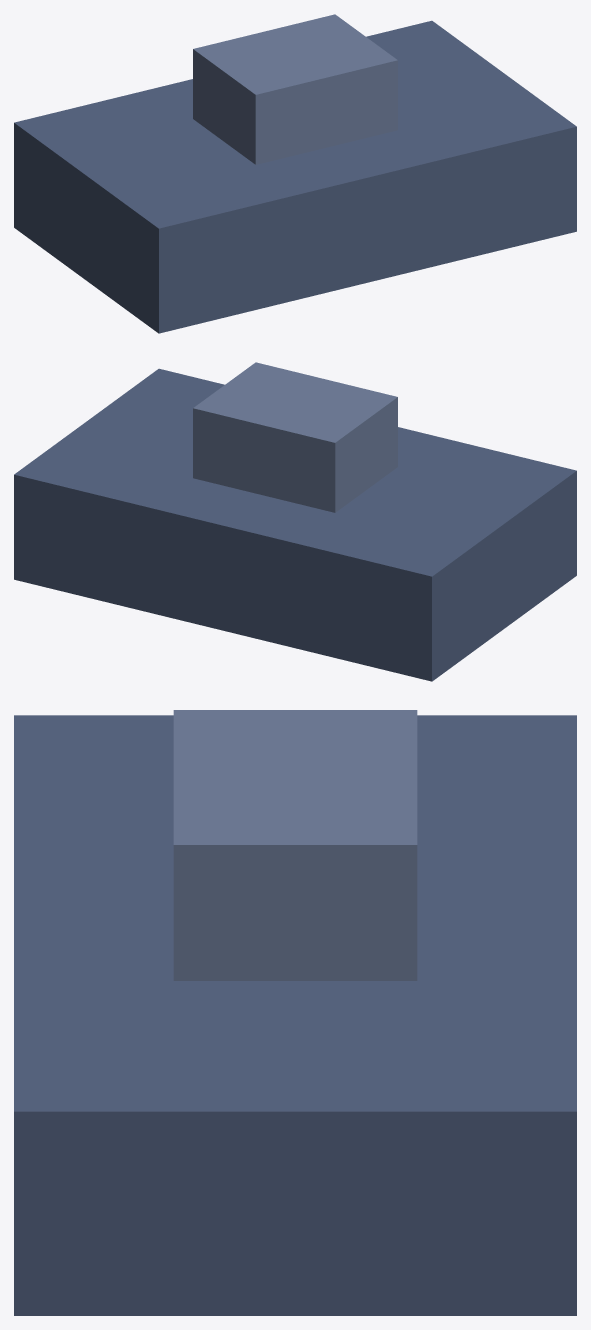
3 renders of one model, top to bottom at view 1: azimuth 30°, elevation 25°; view 2: azimuth 150°, elevation 25°; view 3: azimuth 270°, elevation 25°, orthographic. The views are drawn at different scales.
Parts seen in each view (by area): view 1: base, pedestal; view 2: base, pedestal; view 3: base, pedestal.
Part boxes in pixels (x1,y1,x2,y2): base: (14, 20, 576, 333); pedestal: (193, 14, 397, 164); base: (14, 368, 576, 681); pedestal: (193, 362, 397, 512); base: (14, 715, 576, 1315); pedestal: (173, 710, 417, 980).
Size of the model in its own units: 1000 by 600 by 400.
